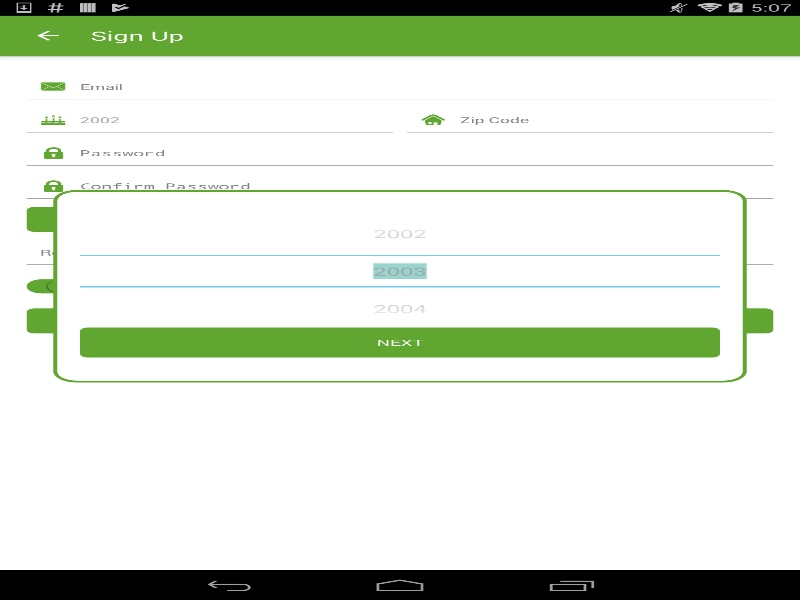Button: (80, 215, 720, 256), (80, 286, 720, 327), (80, 327, 720, 357)
Input: (80, 256, 720, 286)
